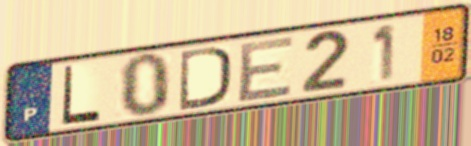0: (112, 51, 174, 119)
1: (369, 21, 396, 85)
2: (298, 27, 355, 98)
D: (177, 43, 234, 113)
E: (235, 33, 298, 105)
L: (59, 63, 104, 127)
